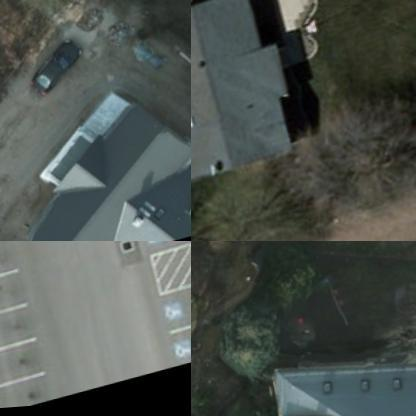car: (26, 44, 89, 102)
